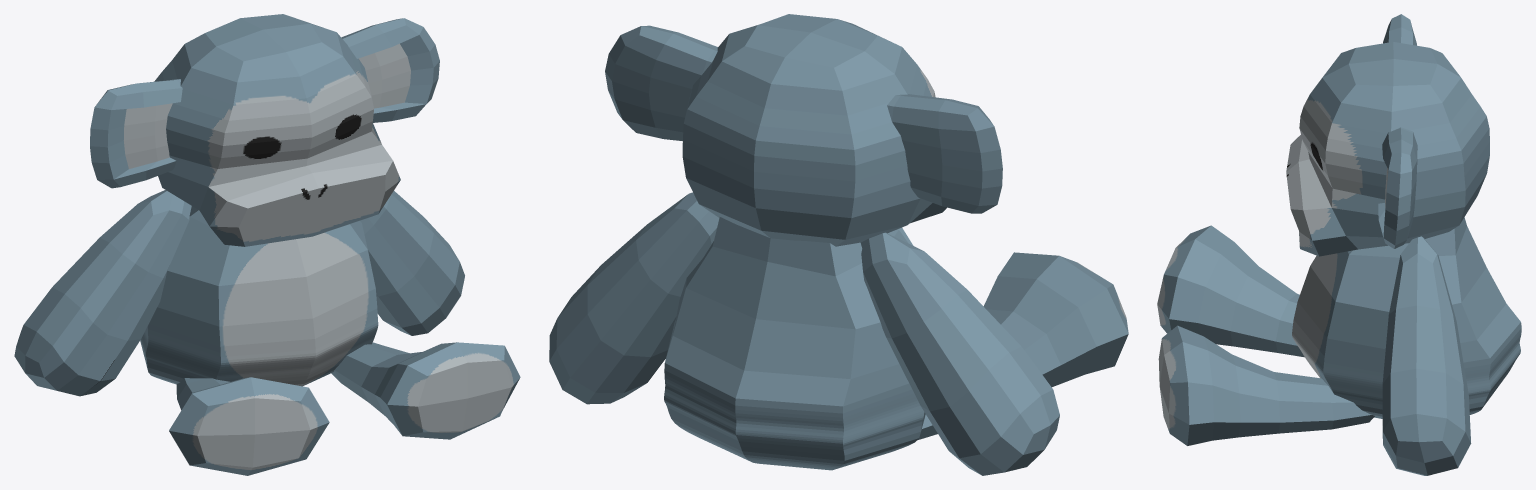
Rendered from monkeyplushbig.fbx.
3 views of the same model, side by side, from view 1: azimuth 30°, elevation 25°; view 2: azimuth 150°, elevation 25°; view 3: azimuth 270°, elevation 25° (orthographic). The views are drawn at different scales.
Visible parts, largest first — view 1: Cube.037, Cube.040, Cube.034, Cube.036, Cube.039, Cube.038, Cube.035; view 2: Cube.040, Cube.037, Cube.034, Cube.036, Cube.035, Cube.038; view 3: Cube.037, Cube.040, Cube.035, Cube.039, Cube.038, Cube.036.
Part boxes in pixels (x1=…): Cube.037: x1=154, y1=14, x2=400, y2=246; Cube.040: x1=140, y1=206, x2=378, y2=386; Cube.034: x1=14, y1=190, x2=191, y2=396; Cube.036: x1=90, y1=18, x2=439, y2=188; Cube.039: x1=331, y1=342, x2=520, y2=439; Cube.038: x1=169, y1=377, x2=329, y2=475; Cube.035: x1=360, y1=191, x2=464, y2=335; Cube.040: x1=664, y1=217, x2=925, y2=470; Cube.037: x1=682, y1=14, x2=946, y2=246; Cube.034: x1=860, y1=232, x2=1059, y2=475; Cube.036: x1=605, y1=25, x2=1002, y2=213; Cube.035: x1=549, y1=192, x2=719, y2=404; Cube.038: x1=917, y1=252, x2=1128, y2=440; Cube.037: x1=1286, y1=42, x2=1489, y2=256; Cube.040: x1=1292, y1=217, x2=1521, y2=418; Cube.035: x1=1382, y1=236, x2=1471, y2=475; Cube.039: x1=1158, y1=325, x2=1374, y2=445; Cube.038: x1=1157, y1=225, x2=1304, y2=357; Cube.036: x1=1378, y1=14, x2=1417, y2=248.
Bounding box in the file's own units: 70.01 × 54.93 × 53.22.
